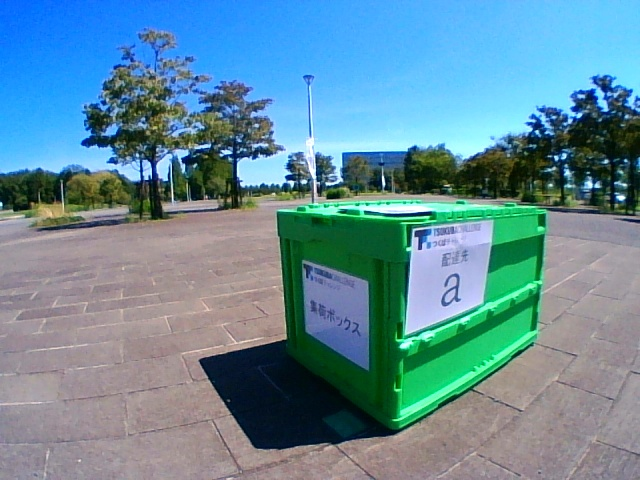green_box: (276, 198, 545, 431)
tag_a: (420, 238, 472, 309)
